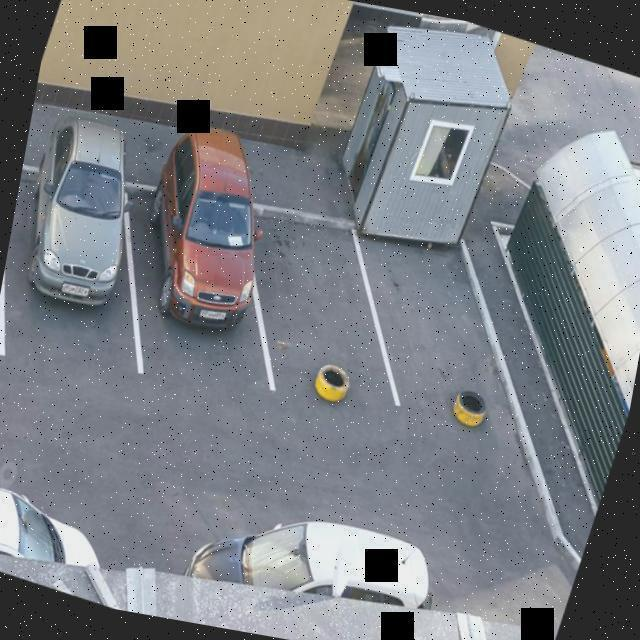space-empty: (0, 149, 36, 360)
space-occupied: (0, 115, 168, 377), (115, 148, 298, 377), (231, 216, 418, 427), (362, 235, 529, 437)
